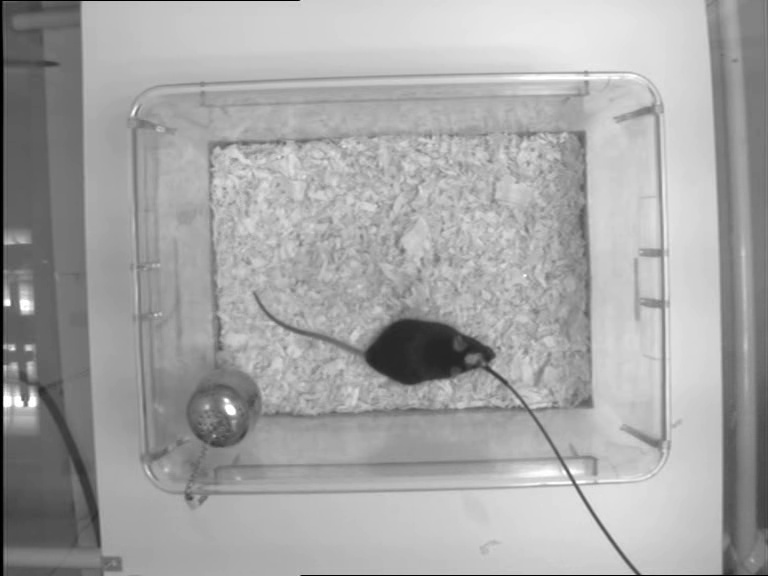mice: (251, 289, 496, 385)
